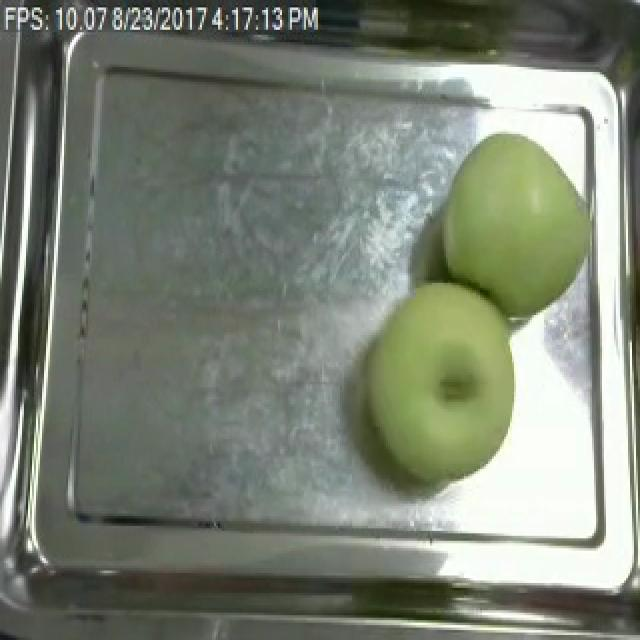50-_ripeness: (363, 277, 520, 494), (435, 128, 616, 316)
